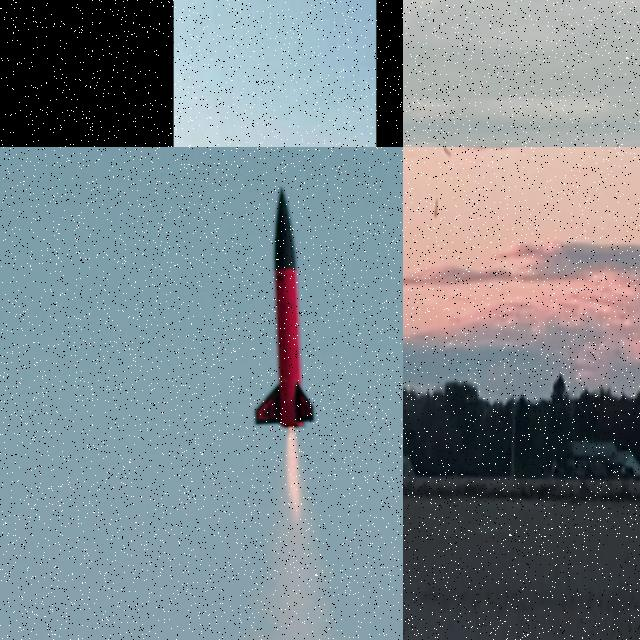Rocket: (254, 185, 316, 429), (434, 196, 438, 219)
